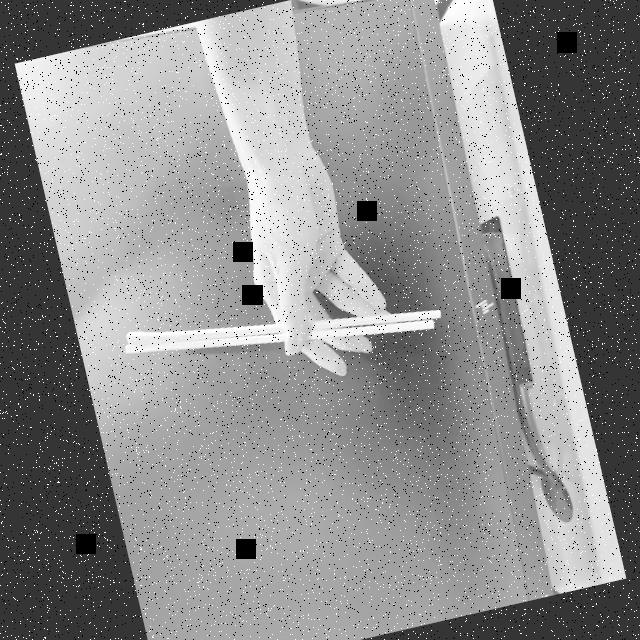stick: (98, 165, 452, 422)
